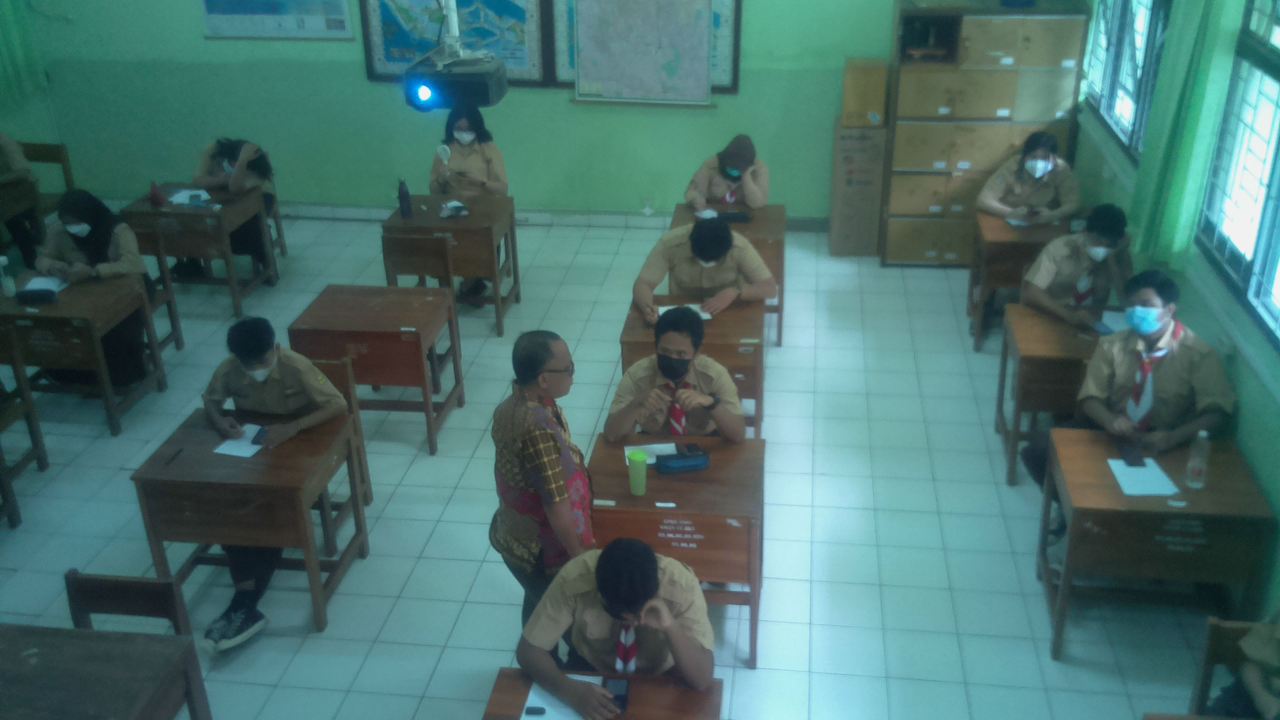Student: (528, 537, 723, 689), (491, 327, 596, 542), (1093, 275, 1218, 431), (615, 305, 727, 431), (203, 319, 324, 417), (1041, 201, 1129, 306), (43, 187, 141, 273), (657, 213, 757, 293), (983, 135, 1079, 214), (425, 111, 506, 196), (689, 131, 767, 209), (199, 137, 274, 193)
